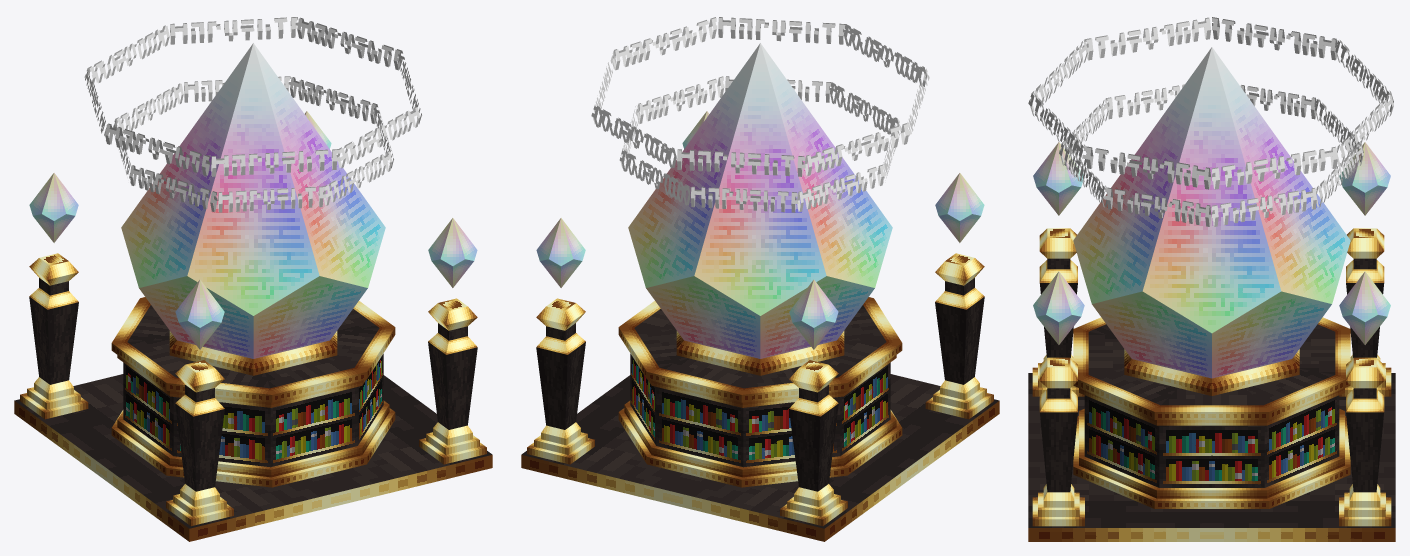
File: matrix_crystal_core.obj
3 views of the same model, side by side, from view 1: azimuth 30°, elevation 25°; view 2: azimuth 150°, elevation 25°; view 3: azimuth 270°, elevation 25° (orthographic). The views are drawn at different scales.
Parts seen in each view (by area): view 1: CornerCrystal005, Pedestal, Base, CornerPillars, CrystalRing003, CrystalRing01, MainCrystalBrace, CornerCrystal03, CornerCrystal01, CornerCrystal04; view 2: CornerCrystal005, Pedestal, Base, CornerPillars, CrystalRing003, CrystalRing01, MainCrystalBrace, CornerCrystal01, CornerCrystal02, CornerCrystal04; view 3: CornerCrystal005, Pedestal, CornerPillars, Base, CrystalRing003, CrystalRing01, MainCrystalBrace, CornerCrystal02, CornerCrystal03, CornerCrystal01, CornerCrystal04.
Boxes of the visible parts, x1,y1,x2,y2 form: CornerCrystal005: (121, 43, 385, 358); Pedestal: (111, 297, 395, 487); Base: (14, 374, 492, 541); CornerPillars: (20, 253, 486, 526); CrystalRing003: (84, 17, 421, 176); CrystalRing01: (113, 76, 393, 212); MainCrystalBrace: (169, 331, 337, 375); CornerCrystal03: (428, 218, 477, 287); CornerCrystal01: (29, 173, 78, 242); CornerCrystal04: (175, 279, 224, 349); CornerCrystal005: (628, 43, 892, 358); Pedestal: (618, 297, 902, 487); Base: (521, 374, 999, 541); CornerPillars: (527, 253, 993, 526); CrystalRing003: (591, 17, 929, 176); CrystalRing01: (619, 76, 901, 212); MainCrystalBrace: (676, 331, 844, 375); CornerCrystal01: (789, 279, 838, 349); CornerCrystal02: (536, 218, 585, 287); CornerCrystal04: (935, 173, 984, 242); CornerCrystal005: (1073, 47, 1350, 378); Pedestal: (1073, 317, 1350, 508); CornerPillars: (1032, 228, 1391, 526); Base: (1028, 373, 1395, 541); CrystalRing003: (1028, 17, 1393, 189); CrystalRing01: (1059, 84, 1363, 226); MainCrystalBrace: (1124, 349, 1299, 395); CornerCrystal02: (1339, 271, 1390, 344); CornerCrystal03: (1033, 271, 1084, 344); CornerCrystal01: (1339, 142, 1390, 215); CornerCrystal04: (1033, 142, 1083, 215).
Bounding box in the file's own units: 2.95 × 3.7 × 2.95.
